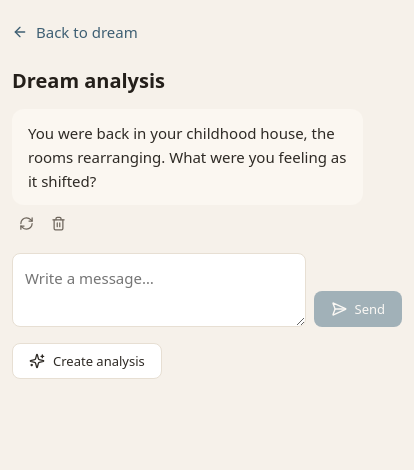
Dreams analysis UI › surfaces an "Analyze this dream" suggestion when the coach signals readiness
The image size is (414, 470).
Expected: the text "childhood house" is shown, [28,123,350,191]
Type "That is everything." into the text box labelled "message". click: (159, 290)
box: [12,253,306,327]
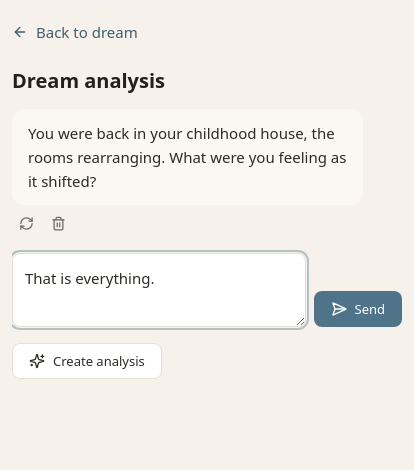
Click the button "Send". click: (358, 309)
box: [314,291,402,327]
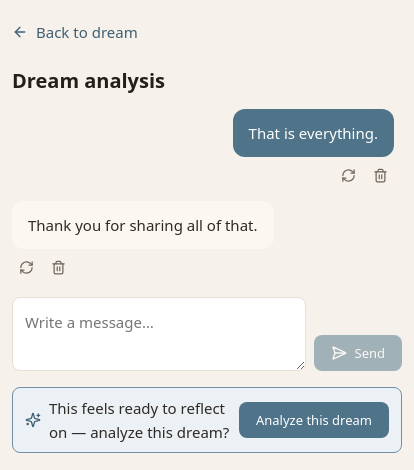
Expected: the button "Analyze this dream" is shown, [239,402,389,438]
